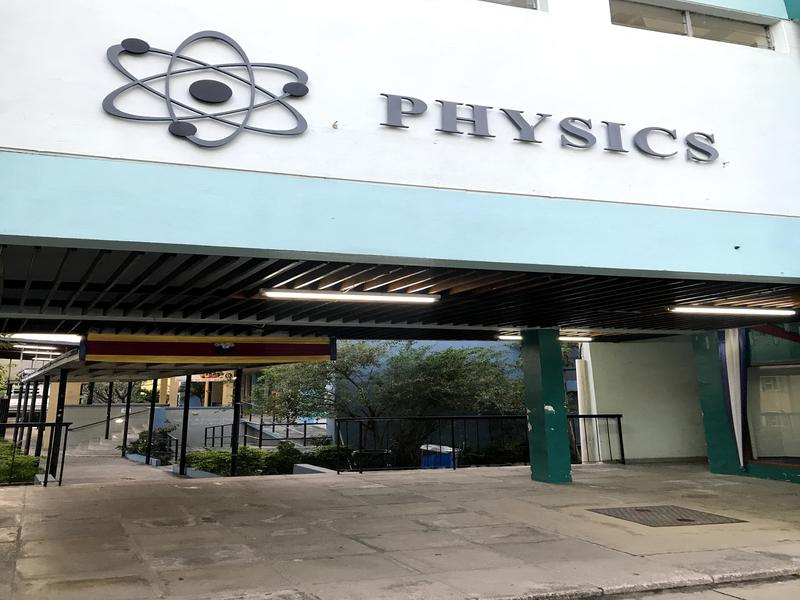18.0053657_-76.7491452_physicssign: (86, 9, 751, 186)
